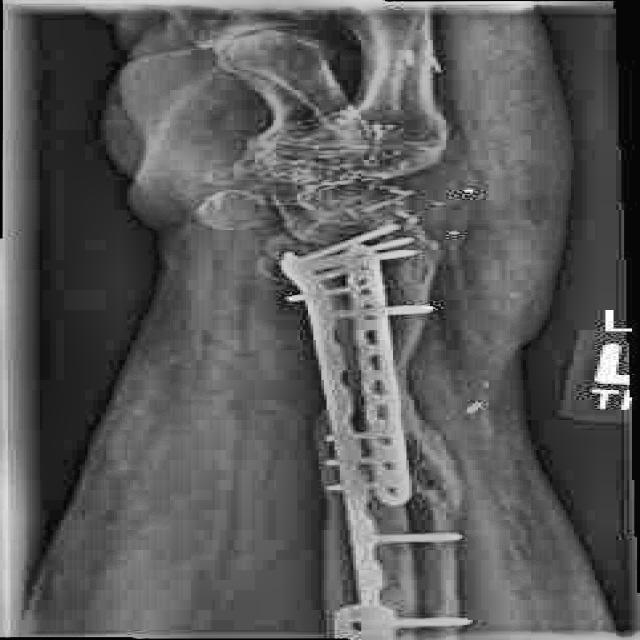fingers positive: (244, 209, 474, 295)
